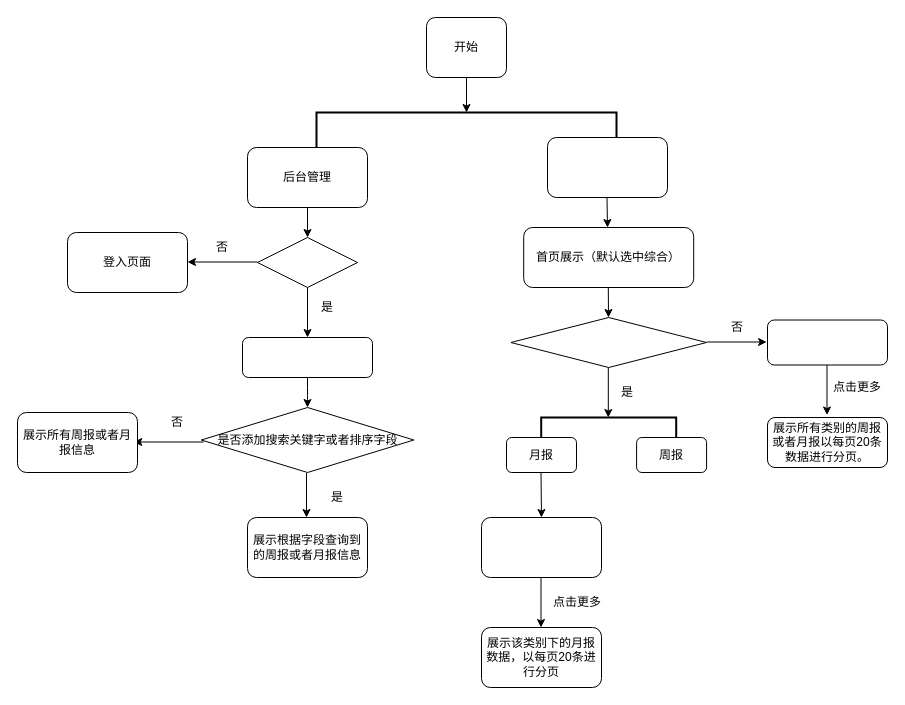
Image size: 905x705. Some labels were removed from this diagram. The box of each missing label's shape, as (x1, y1, x2, y2) in pixels:
客户端: (546, 136, 668, 198)
是否登入: (256, 236, 358, 288)
是否选中某一产品类别: (510, 316, 706, 368)
点击周报或者月报目录: (242, 336, 372, 378)
首页分析报告展示所有类别的周报或者月报3条数据。: (766, 319, 888, 365)
首页展示该类别的3条月报信息: (480, 516, 602, 578)
